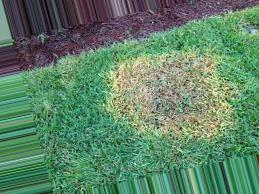patch: (127, 59, 216, 133)
